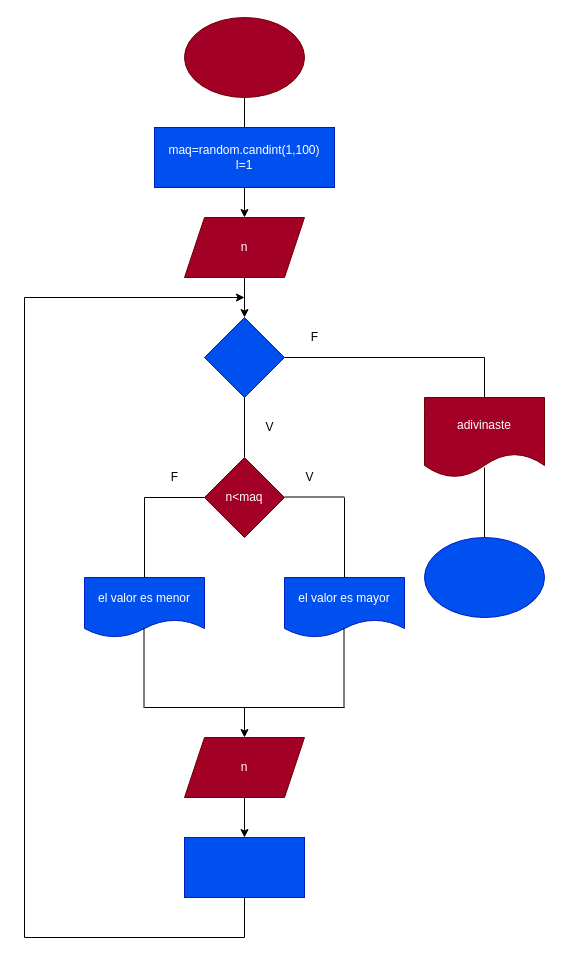
Some shapes in this 562 by 956 pixel diagram are drawn without their labels. Each missing label, with the centre of its shape:
"FIN" goes at pixel 484 577.
"i=i+1" goes at pixel 244 867.
"INICIO" goes at pixel 244 57.
"n!=maq" goes at pixel 244 357.
